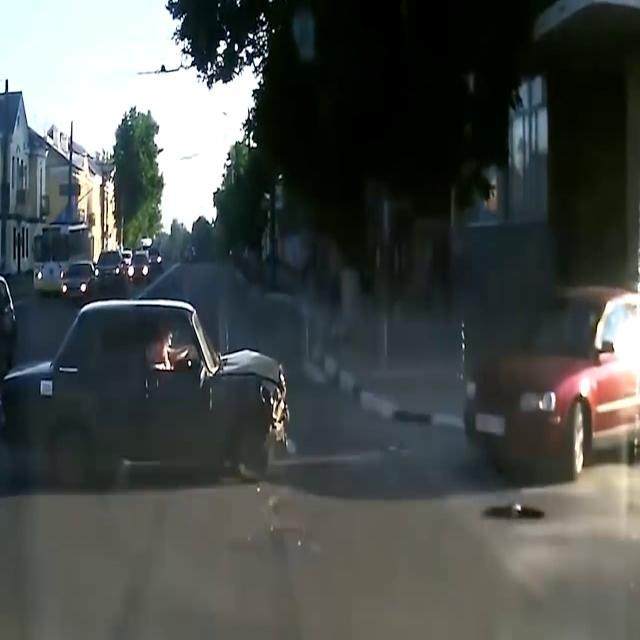multiple_accident: (44, 253, 639, 526)
normal: (6, 227, 174, 306)
